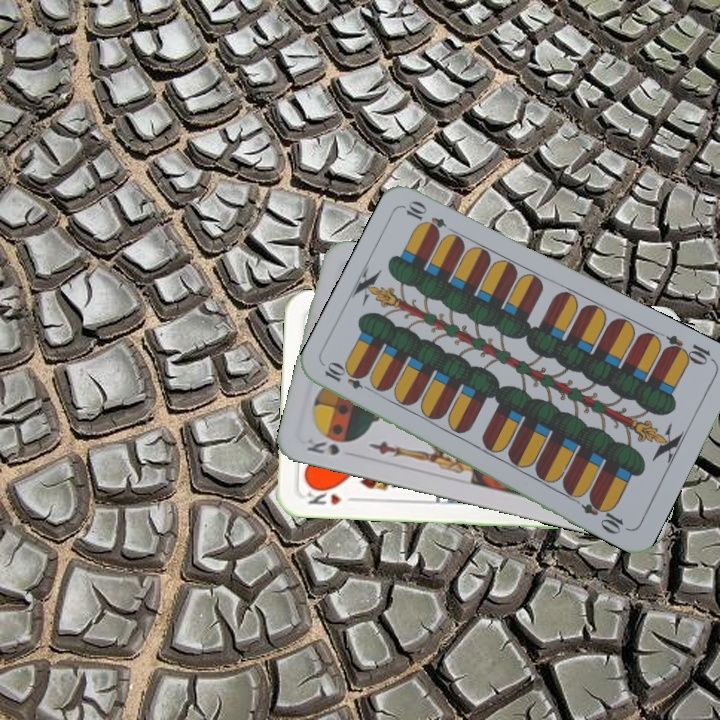E10: (660, 330, 718, 368), (320, 360, 378, 395)
HK: (303, 483, 359, 508)
SK: (302, 432, 351, 458)
